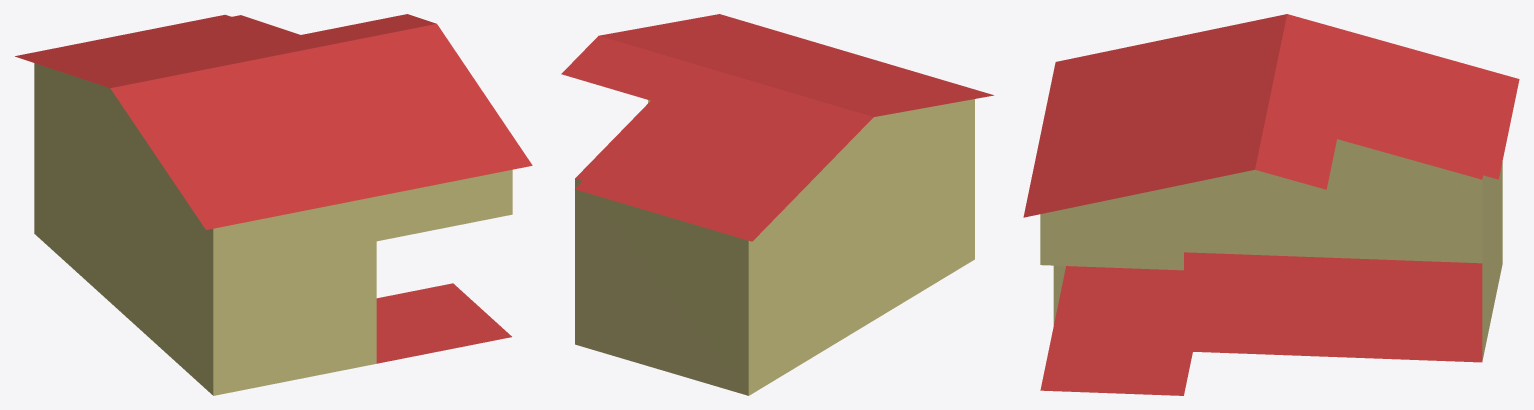
3 renders of one model, left to right at view 1: azimuth 30°, elevation 25°; view 2: azimuth 150°, elevation 25°; view 3: azimuth 270°, elevation 25°, orthographic. The views are drawn at different scales.
Bounding box in the file's own units: 18.92 × 23.76 × 12.44.
